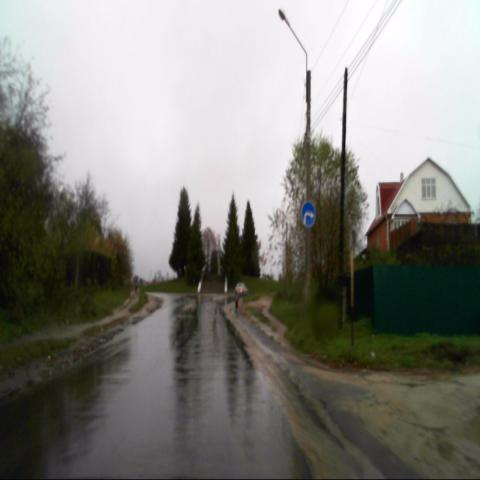4_1_2: (301, 202, 315, 227)
